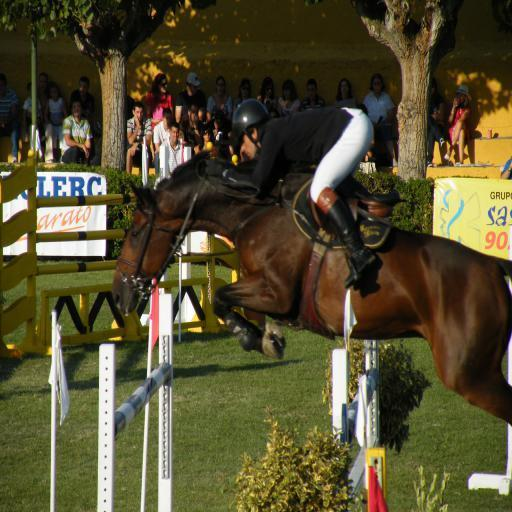horse: (110, 147, 512, 429)
